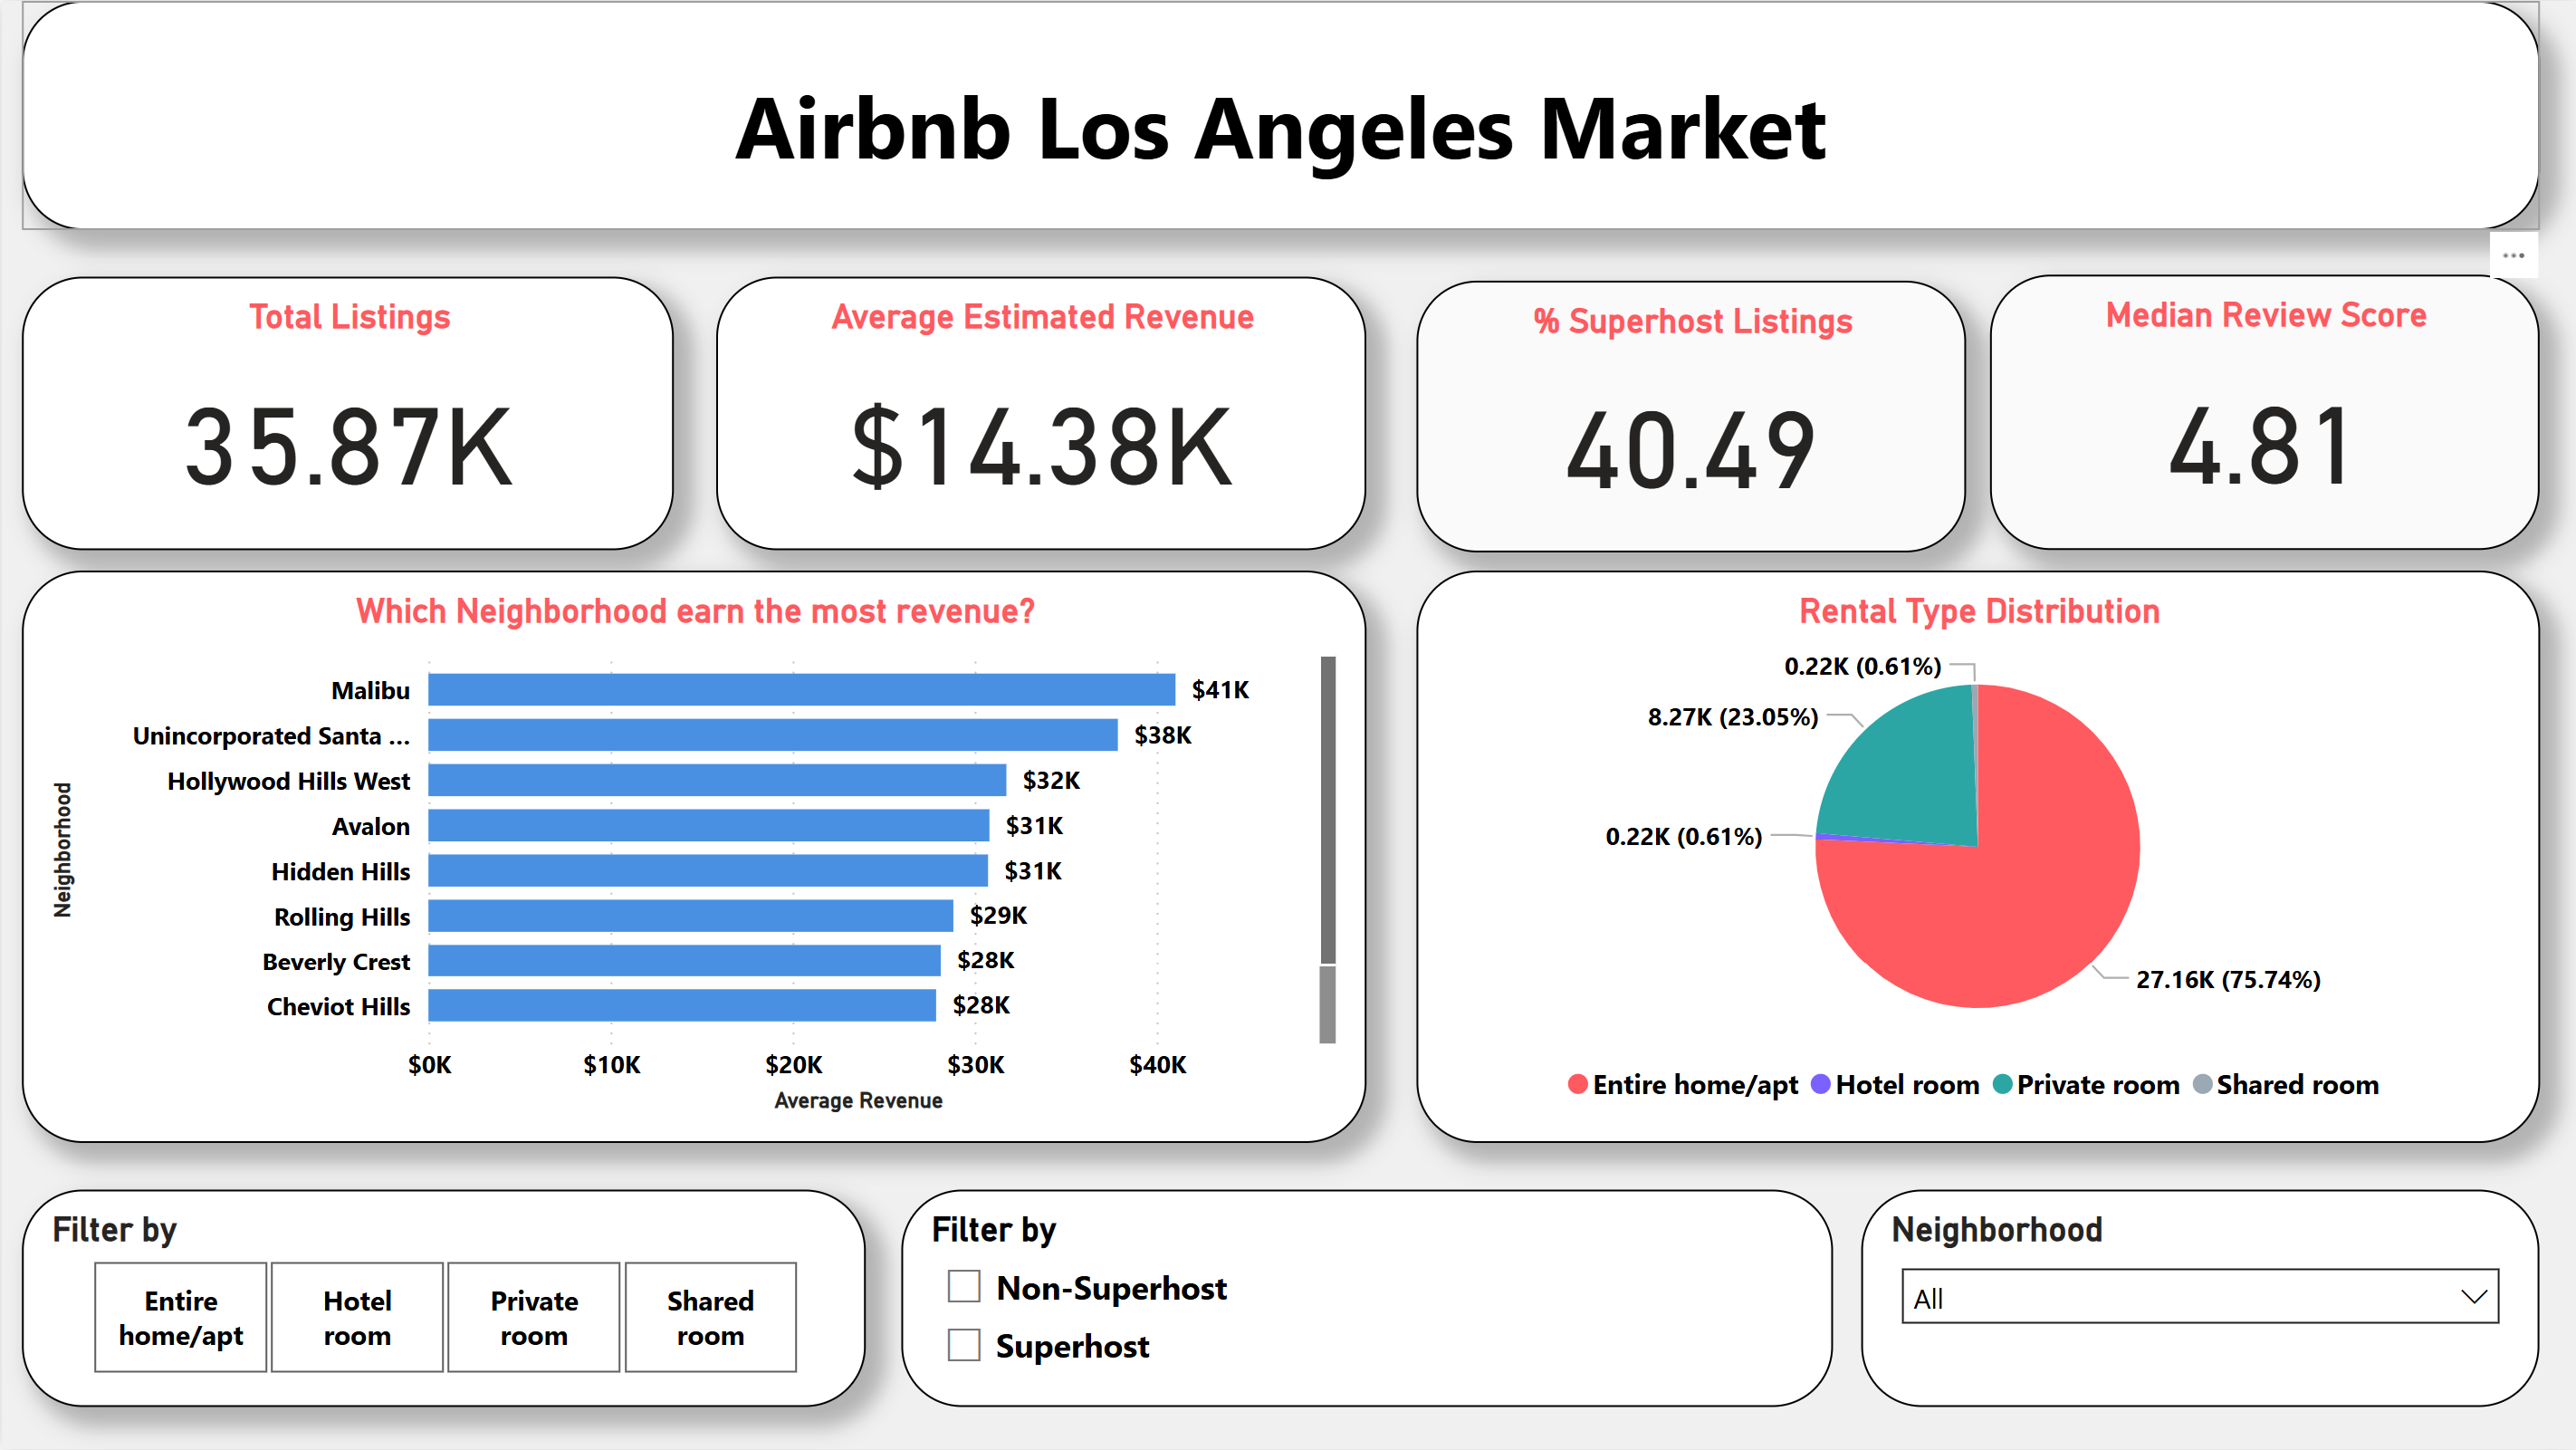

The page's visual inventory and layout, read from the dashboard file:
{"tool":"powerbi","page":{"name":"Executive Summary","canvas":[1280,720],"ordinal":0},"visuals":[{"type":"card","title":"Total Listings","fields":{"Values":["Count(airbnb_la_cleaned.id)"]},"box":[10.5,137,323.4,136],"z":0},{"type":"card","title":"Average Estimated Revenue","fields":{"Values":["Avg(airbnb_la_cleaned.estimated_revenue_l365d)"]},"box":[354.8,137,323.4,136],"z":1000},{"type":"card","title":"% Superhost Listings","fields":{"Values":["airbnb_la_cleaned.% Superhost Listings"]},"box":[702.9,138.9,273,135.1],"z":2000},{"type":"card","title":"Median Review Score","fields":{"Values":["airbnb_la_cleaned.Median Review Score"]},"box":[988,136,273,137],"z":3000},{"type":"clusteredBarChart","title":"Which Neighborhood earn the most revenue?","fields":{"Y":["Avg(airbnb_la_cleaned.estimated_revenue_l365d)"],"Category":["airbnb_la_cleaned.neighbourhood_cleansed"]},"box":[10.5,283.5,667.7,284.4],"z":4000},{"type":"pieChart","title":"Rental Type Distribution","fields":{"Category":["airbnb_la_cleaned.room_type"],"Y":["Count(airbnb_la_cleaned.id)"]},"box":[703,283,558,285],"z":5000},{"type":"slicer","title":"Filter by","fields":{"Values":["airbnb_la_cleaned.room_type"]},"box":[10.4,591.1,418.8,108.2],"z":6000},{"type":"slicer","title":"Filter by","fields":{"Values":["airbnb_la_cleaned.Superhost Label"]},"box":[447.1,591.1,463.1,108.2],"z":7000},{"type":"slicer","title":"Neighborhood","fields":{"Values":["airbnb_la_cleaned.neighbourhood_cleansed"]},"box":[924,591,337,108],"z":8000},{"type":"textbox","box":[10,0,1251,114],"z":9000}]}

Visuals, with their boxes in screenshot pixels (x1, y1, x2, y2), scaled from the page's 1280x720 canvas onto the 2576x1450 screenshot:
"Total Listings" card: locate(21, 276, 672, 550)
"Average Estimated Revenue" card: locate(714, 276, 1365, 550)
"% Superhost Listings" card: locate(1414, 280, 1964, 552)
"Median Review Score" card: locate(1988, 274, 2538, 550)
"Which Neighborhood earn the most revenue?" clusteredBarChart: locate(21, 571, 1365, 1144)
"Rental Type Distribution" pieChart: locate(1415, 570, 2538, 1144)
"Filter by" slicer: locate(21, 1190, 864, 1408)
"Filter by" slicer: locate(900, 1190, 1832, 1408)
"Neighborhood" slicer: locate(1860, 1190, 2538, 1407)
textbox: locate(20, 0, 2538, 229)
